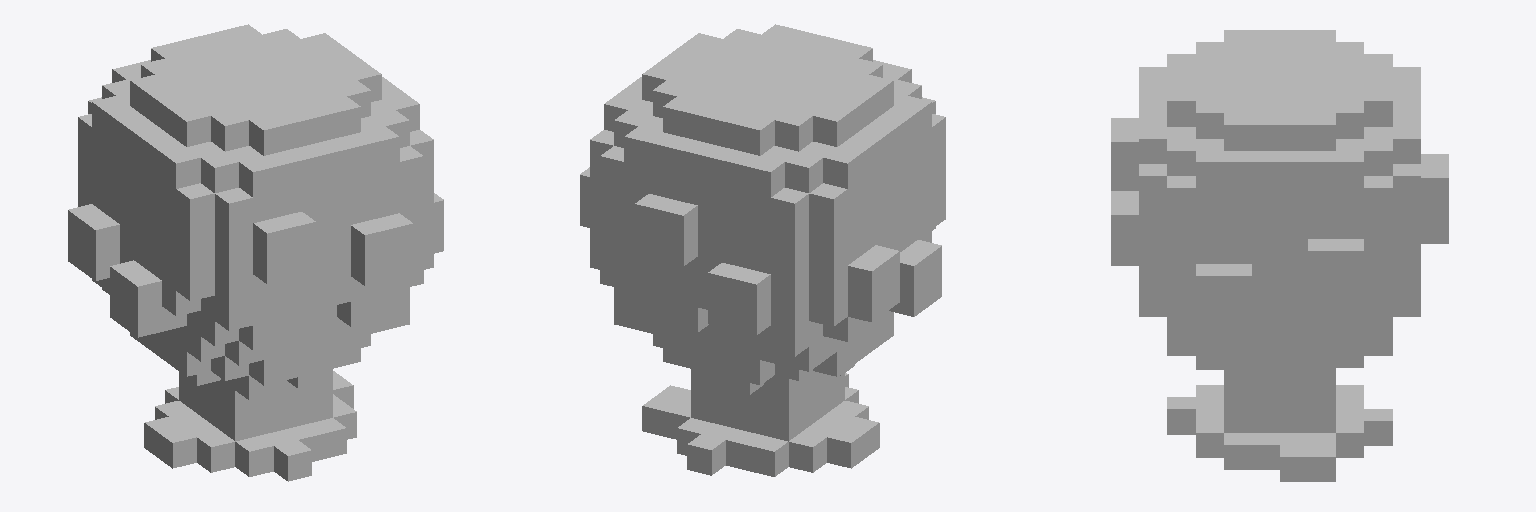
File: TVS_VoxelKnights_Bush.obj
3 views of the same model, side by side, from view 1: azimuth 30°, elevation 25°; view 2: azimuth 150°, elevation 25°; view 3: azimuth 270°, elevation 25° (orthographic).
Parts seen in each view (by area): view 1: ObjObject_ObjObject.001; view 2: ObjObject_ObjObject.001; view 3: ObjObject_ObjObject.001.
Part boxes in pixels (x1,y1,x2,y2): ObjObject_ObjObject.001: (68,24,443,481); ObjObject_ObjObject.001: (580,24,945,476); ObjObject_ObjObject.001: (1111,30,1448,481).
Bounding box in the file's own units: 1.2 × 1.4 × 1.2.